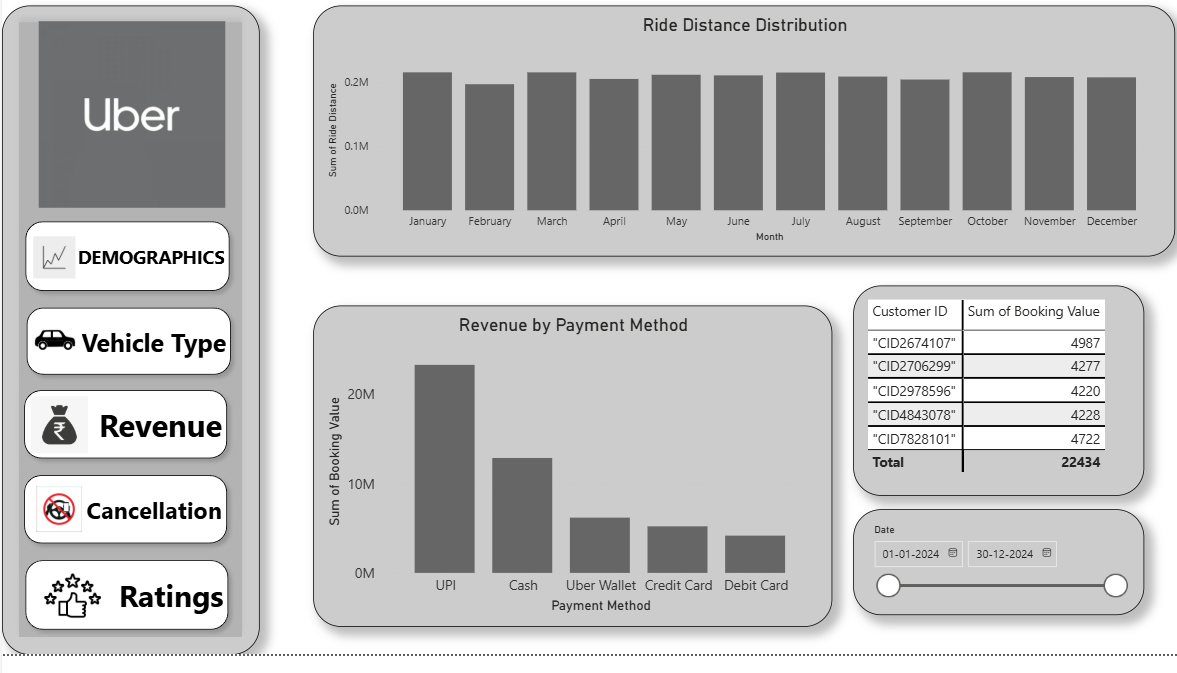

The page's visual inventory and layout, read from the dashboard file:
{"tool":"powerbi","page":{"name":"Revenue","canvas":[1280,720],"ordinal":3},"visuals":[{"type":"shape","box":[0,19.2,278.6,701.2],"z":0},{"type":"image","box":[15.1,31.6,251.1,211.3],"z":1000},{"type":"shape","box":[16.5,242.9,238.8,93.3],"z":2000},{"type":"shape","box":[17.8,336.2,238.8,90.6],"z":3000},{"type":"shape","box":[15.1,425.4,237.4,91.9],"z":4000},{"type":"shape","box":[15.1,517.3,237.4,91.9],"z":5000},{"type":"shape","box":[16.5,609.3,237.4,93.3],"z":6000},{"type":"image","box":[12.2,263.3,89.1,55.4],"z":7000},{"type":"image","box":[25.7,353.8,63.5,52.7],"z":8000},{"type":"image","box":[29.9,533.7,63.4,59.7],"z":9000},{"type":"image","box":[25.7,436.2,72.9,71.6],"z":10000},{"type":"image","box":[39.2,609.1,74.3,93.2],"z":11000},{"type":"columnChart","title":"Ride Distance Distribution","fields":{"Category":["ncr_ride_bookings (2).Date.Variation.Date Hierarchy.Year","ncr_ride_bookings (2).Date.Variation.Date Hierarchy.Quarter","ncr_ride_bookings (2).Date.Variation.Date Hierarchy.Month","ncr_ride_bookings (2).Date.Variation.Date Hierarchy.Day"],"Y":["Sum(ncr_ride_bookings (2).Ride Distance)"]},"box":[335.7,18.6,931.4,271.4],"z":12000},{"type":"columnChart","title":"Revenue by Payment Method","fields":{"Y":["Sum(ncr_ride_bookings (2).Booking Value)"],"Category":["ncr_ride_bookings (2).Payment Method"]},"box":[336.3,343,560.5,347.1],"z":13000},{"type":"tableEx","fields":{"Values":["ncr_ride_bookings (2).Customer ID","Sum(ncr_ride_bookings (2).Booking Value)"]},"box":[919.7,321.4,314.7,226.9],"z":14000},{"type":"slicer","fields":{"Values":["ncr_ride_bookings (2).Date"]},"box":[919.7,563.2,314.7,114.8],"z":15000}]}

Visuals, with their boxes in screenshot pixels (x1, y1, x2, y2), scaled from the page's 1280x720 canvas onto the 1177x673 screenshot:
shape: 0, 18, 256, 672
image: 14, 30, 245, 227
shape: 15, 227, 235, 314
shape: 16, 314, 236, 399
shape: 14, 398, 232, 484
shape: 14, 484, 232, 569
shape: 15, 570, 233, 657
image: 11, 246, 93, 298
image: 24, 331, 82, 380
image: 27, 499, 86, 555
image: 24, 408, 91, 475
image: 36, 569, 104, 656
"Ride Distance Distribution" columnChart: 309, 17, 1165, 271
"Revenue by Payment Method" columnChart: 309, 321, 825, 645
tableEx - ncr_ride_bookings (2).Customer ID x Sum(ncr_ride_bookings (2).Booking Value): 846, 300, 1135, 513
slicer - ncr_ride_bookings (2).Date: 846, 526, 1135, 634
